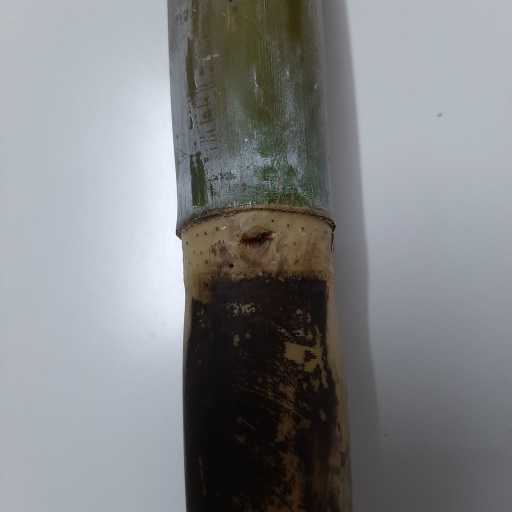Damage_Bud: (239, 222, 277, 269)
